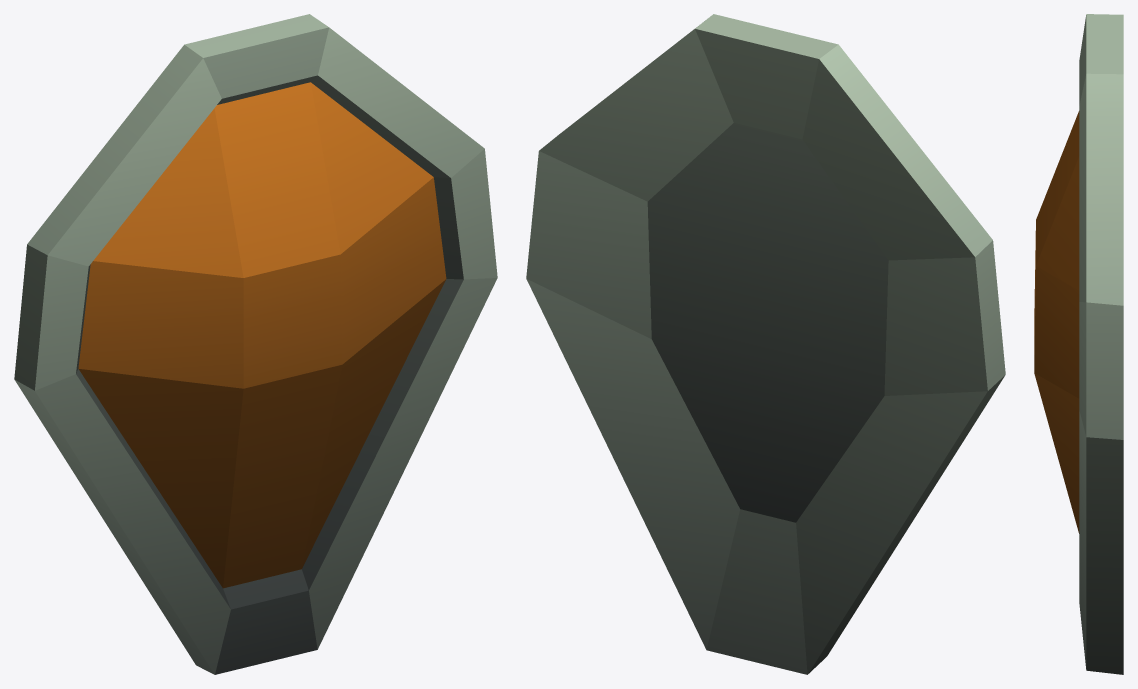
The model's file is shield.fbx.
The picture shows the model from 3 angles, left to right: view 1: azimuth 30°, elevation 25°; view 2: azimuth 150°, elevation 25°; view 3: azimuth 270°, elevation 25°; orthographic projection. The views are drawn at different scales.
Parts seen in each view (by area): view 1: shield; view 2: shield; view 3: shield.
Boxes of the visible parts, bbox=[...] form: shield: bbox=[14, 14, 497, 674]; shield: bbox=[526, 14, 1005, 674]; shield: bbox=[1034, 14, 1123, 674].
Bounding box in the file's own units: 77.35 × 99.15 × 13.27.
